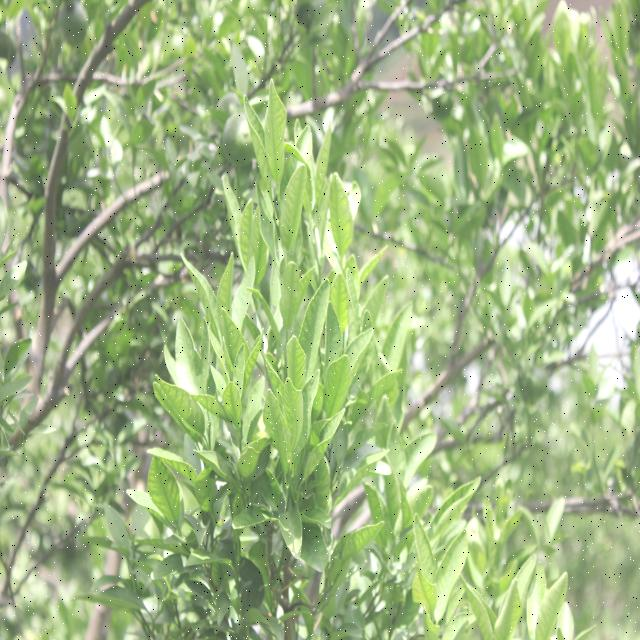greening: (278, 169, 307, 239), (326, 357, 350, 414), (265, 392, 288, 447), (331, 178, 349, 242), (222, 380, 245, 426), (239, 198, 254, 265), (284, 336, 306, 378), (221, 311, 243, 352), (218, 254, 234, 306)
